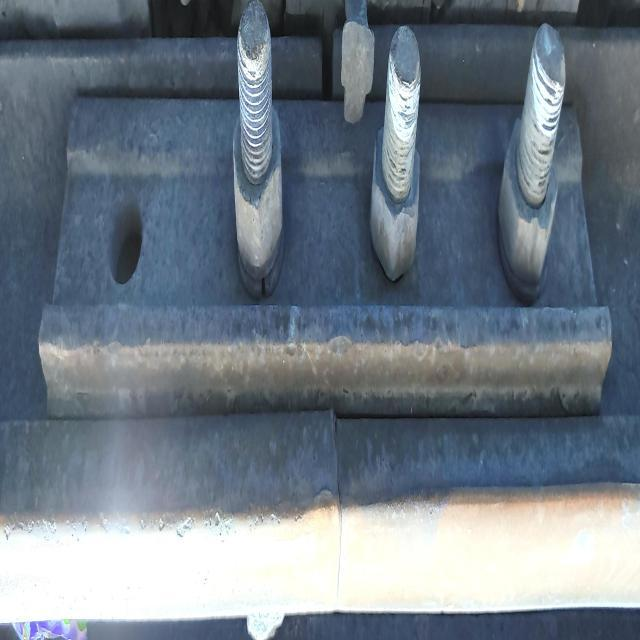Defective Joint: (39, 0, 610, 419)
